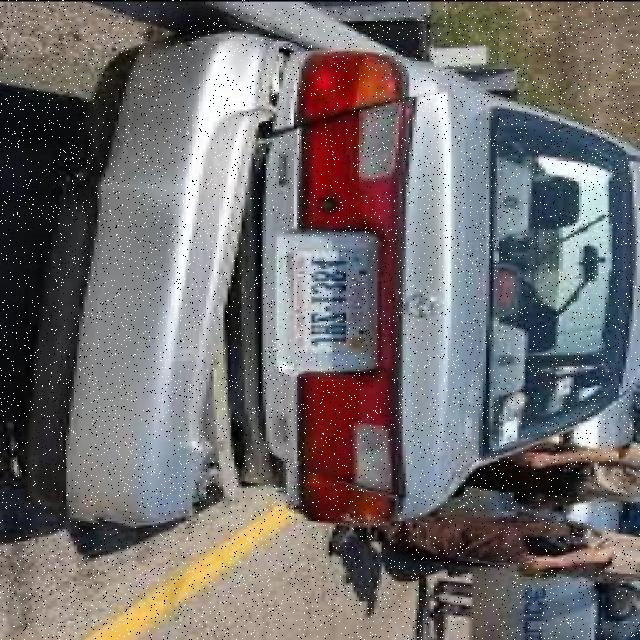damage: (35, 38, 304, 524)
